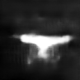plane: (12, 31, 75, 64)
